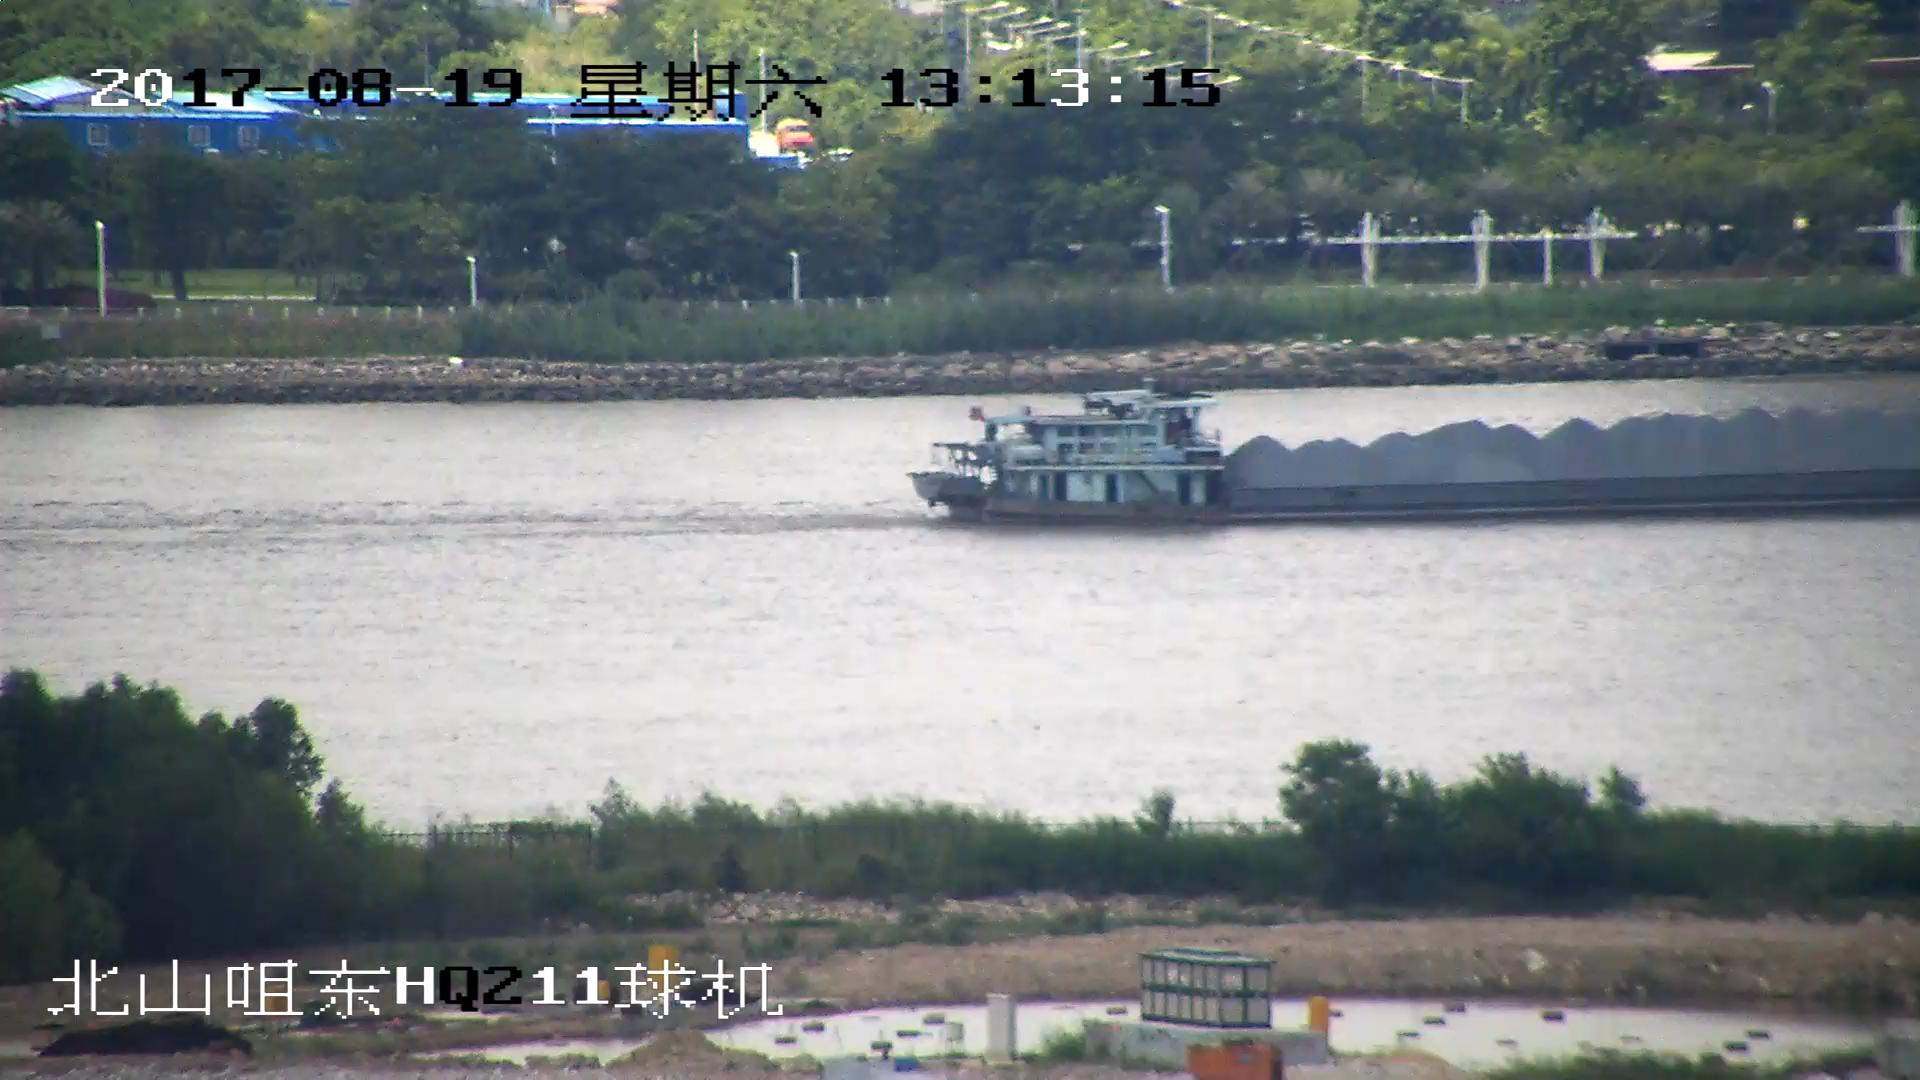ore carrier: (904, 380, 1920, 529)
